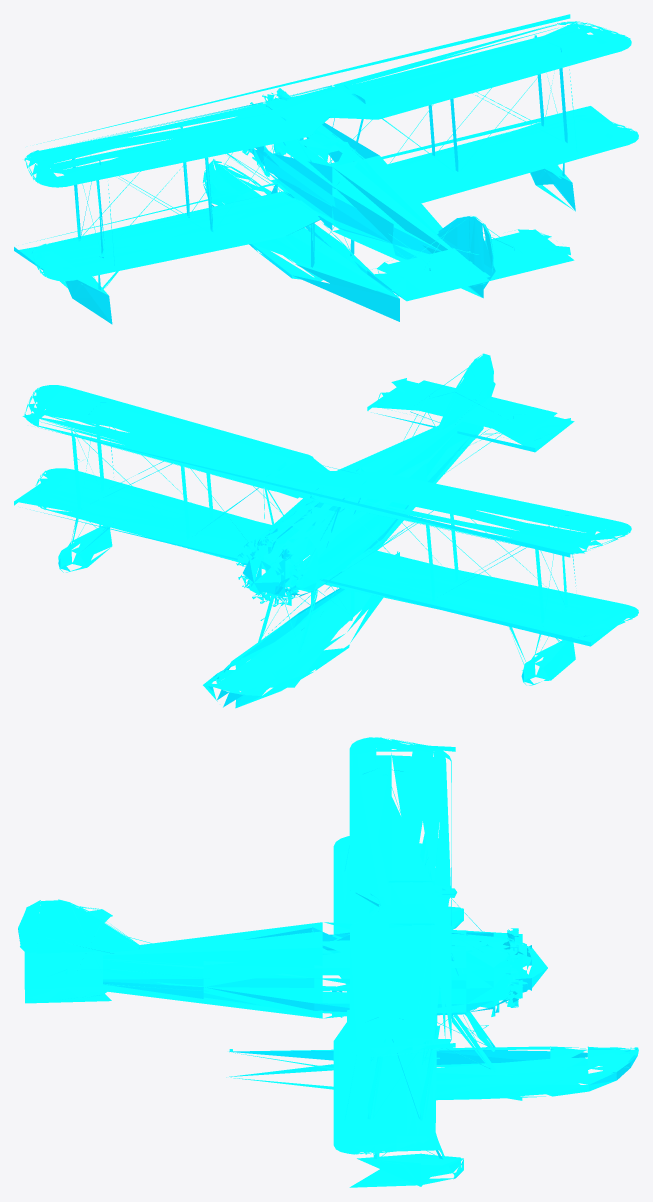
Rendered from PVAS003.glb.
3 views of the same model, one above another, from view 1: azimuth 30°, elevation 25°; view 2: azimuth 150°, elevation 25°; view 3: azimuth 270°, elevation 25° (orthographic). The views are drawn at different scales.
Parts seen in each view (by area): view 1: misc; view 2: misc; view 3: misc.
Part boxes in pixels (x1,y1,x2,y2): misc: [14, 14, 638, 324]; misc: [14, 353, 638, 708]; misc: [18, 737, 638, 1187].
Size of the model in its own units: 0.6981 by 0.2085 by 0.577.
